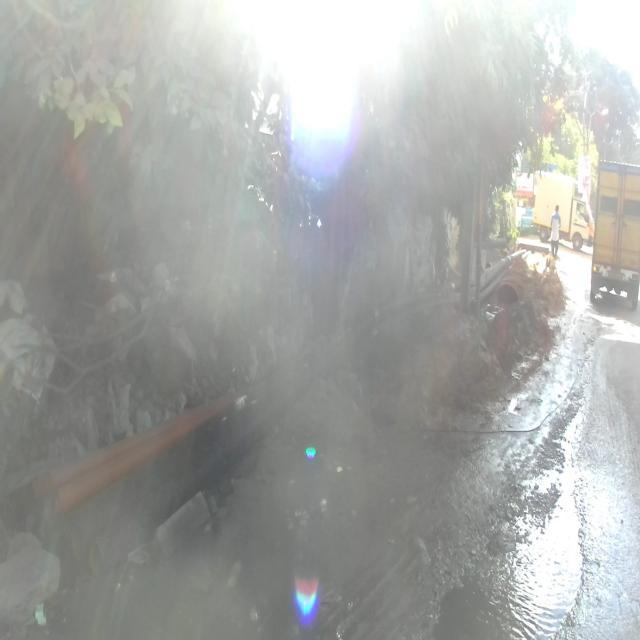Pothole: (518, 396, 640, 640), (150, 493, 264, 640), (546, 308, 604, 391)
